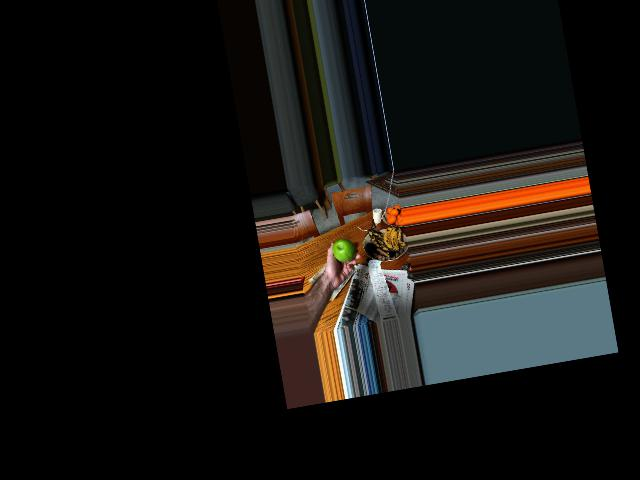apple: (330, 235, 359, 265)
